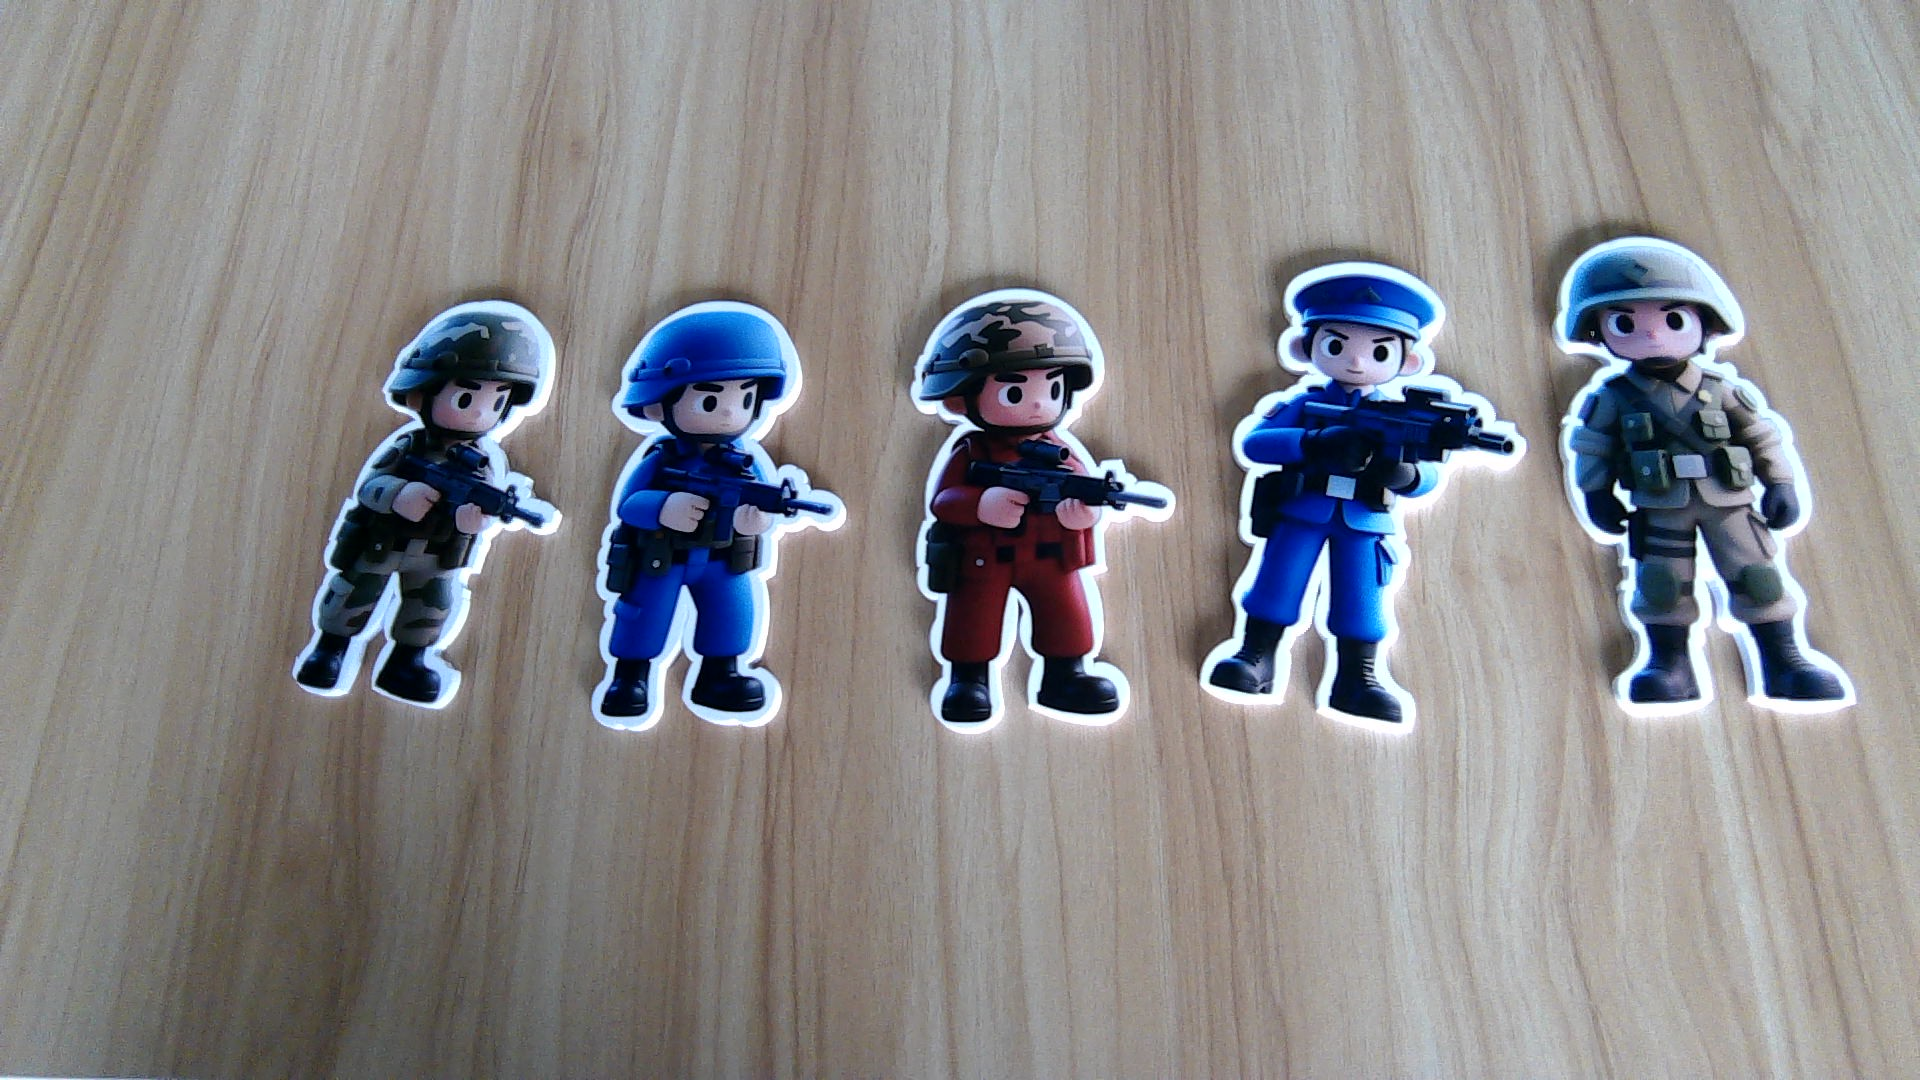友军: (1556, 372, 1874, 717), (290, 433, 560, 708)
敌人1: (909, 438, 1172, 741)
敌人2: (1193, 386, 1520, 729), (587, 438, 843, 738)
